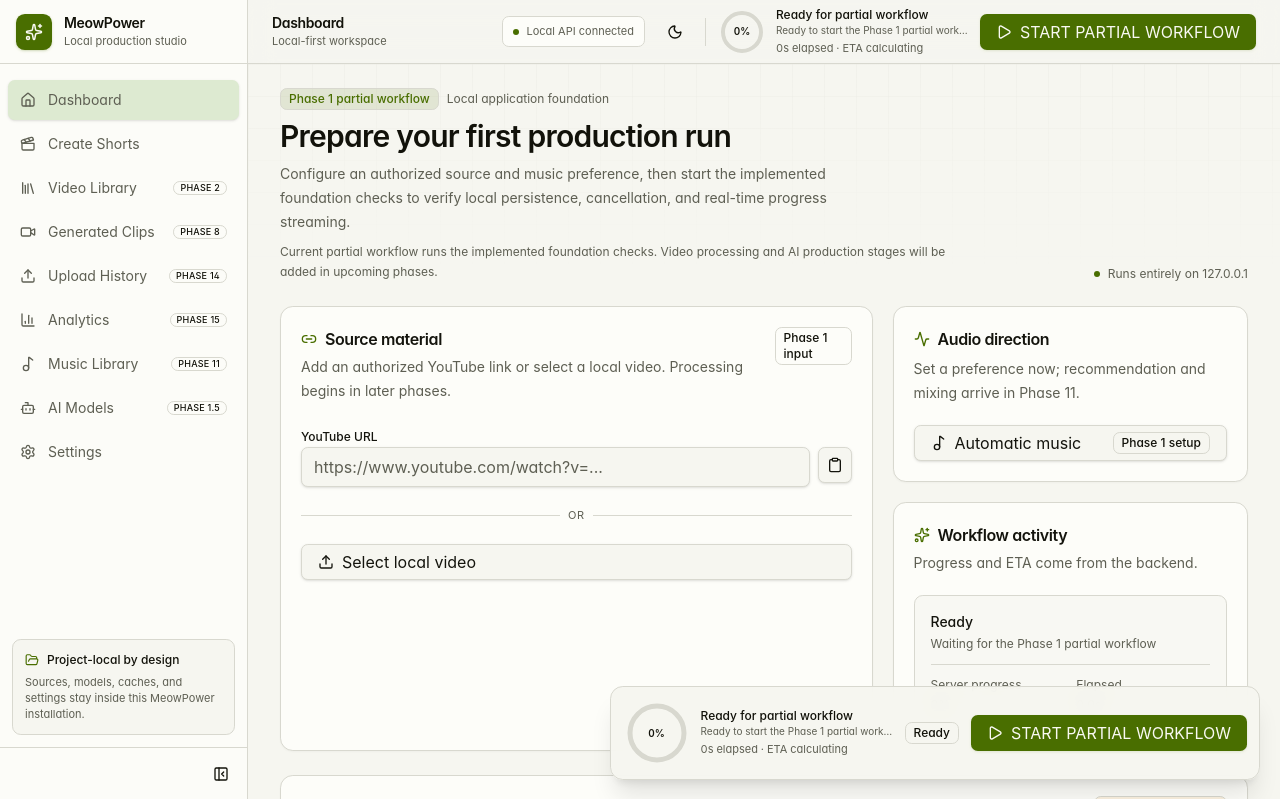
Scenario: MeowPower Phase 1 interface › navigates to settings and persists a theme change
The width and height of the screenshot is (1280, 799).
Later steps or results of the test are not shown.
Click the link "Settings" at (61,452), box x1=20 y1=443 x2=102 y2=460
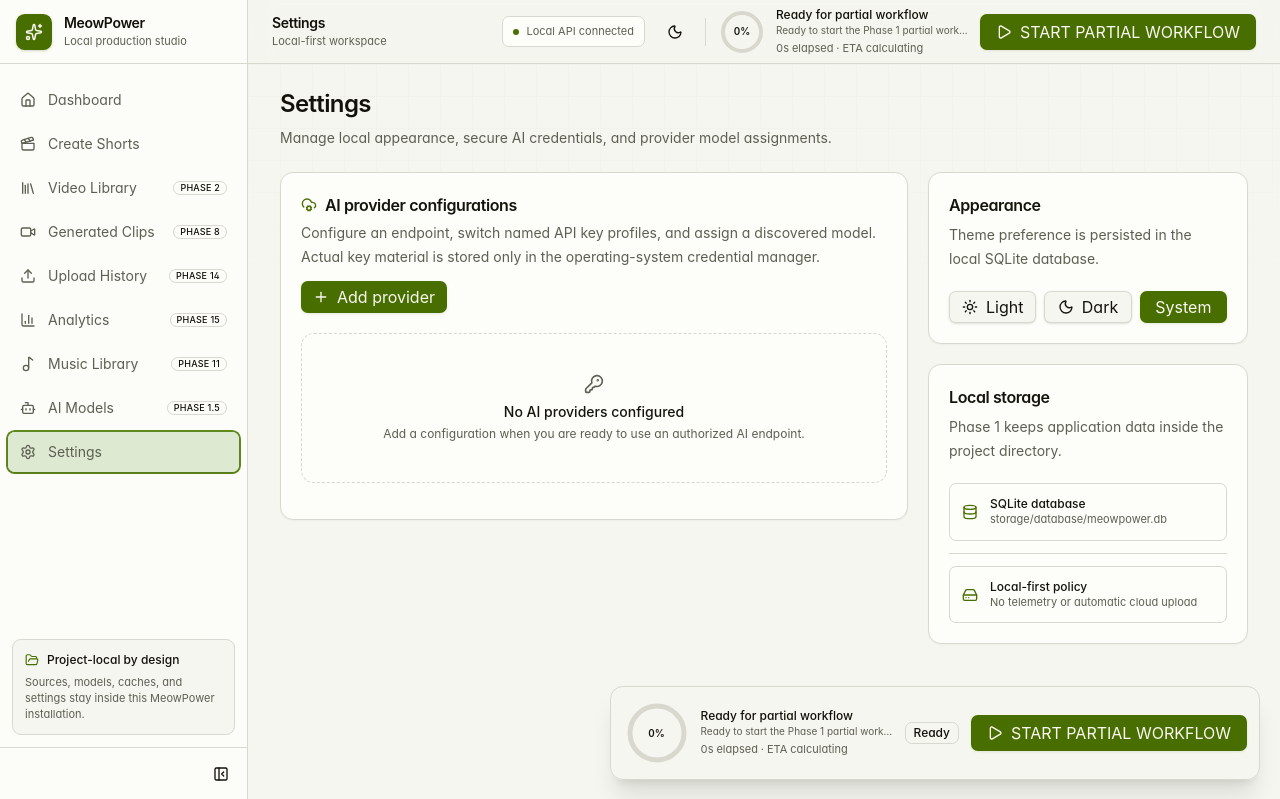
Now the 2nd heading "Settings" is shown, box x1=280 y1=89 x2=371 y2=118
